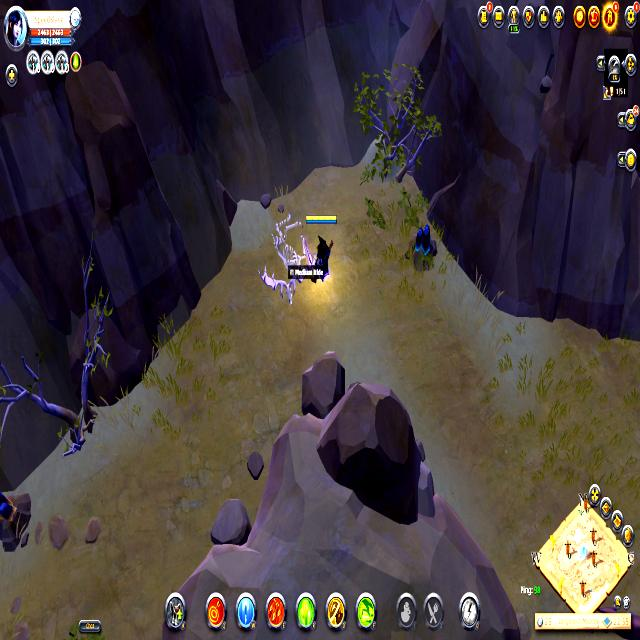player: (0, 478, 36, 555), (403, 218, 444, 275)
red: (303, 210, 338, 285)
